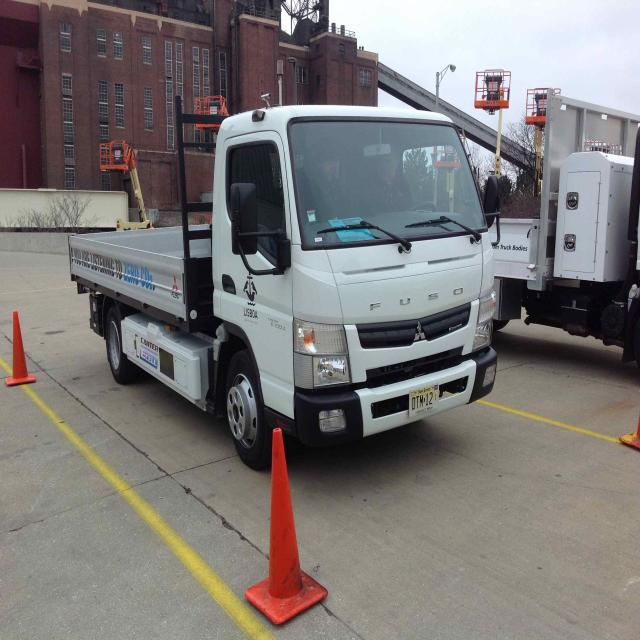truck: (68, 90, 507, 463)
